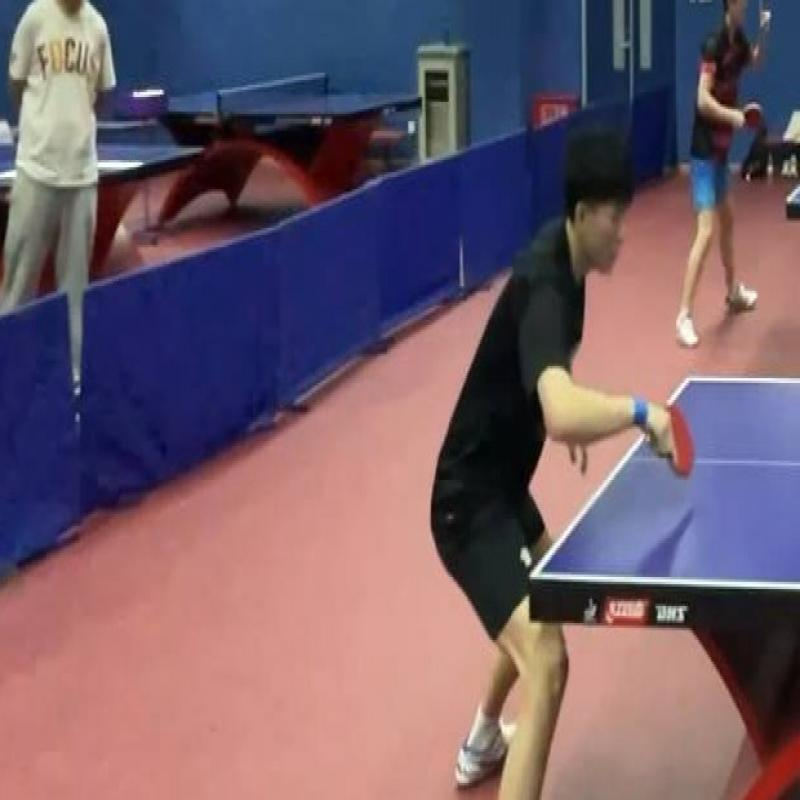bats: (642, 378, 705, 495)
